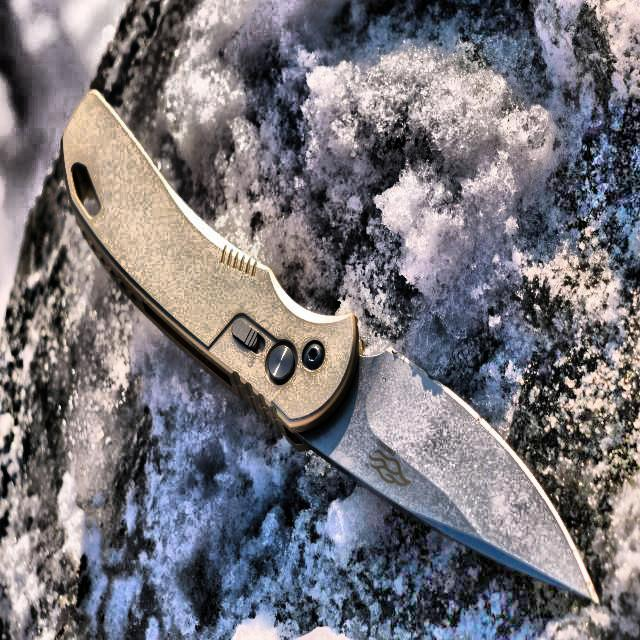knife: (61, 81, 606, 616)
